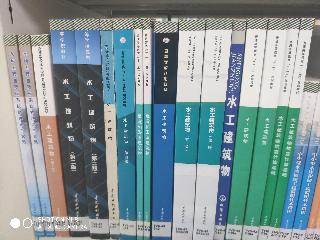book-spine: (239, 19, 287, 240), (267, 19, 314, 239), (223, 19, 266, 240), (189, 20, 231, 240), (257, 19, 298, 239), (50, 17, 88, 237), (167, 20, 204, 240), (3, 36, 43, 235), (31, 35, 68, 236), (213, 21, 246, 240), (18, 36, 53, 235), (76, 19, 106, 237), (280, 83, 316, 239), (153, 21, 178, 239), (286, 87, 320, 239), (115, 21, 135, 239), (101, 20, 119, 238), (135, 20, 143, 238), (143, 20, 151, 238)
